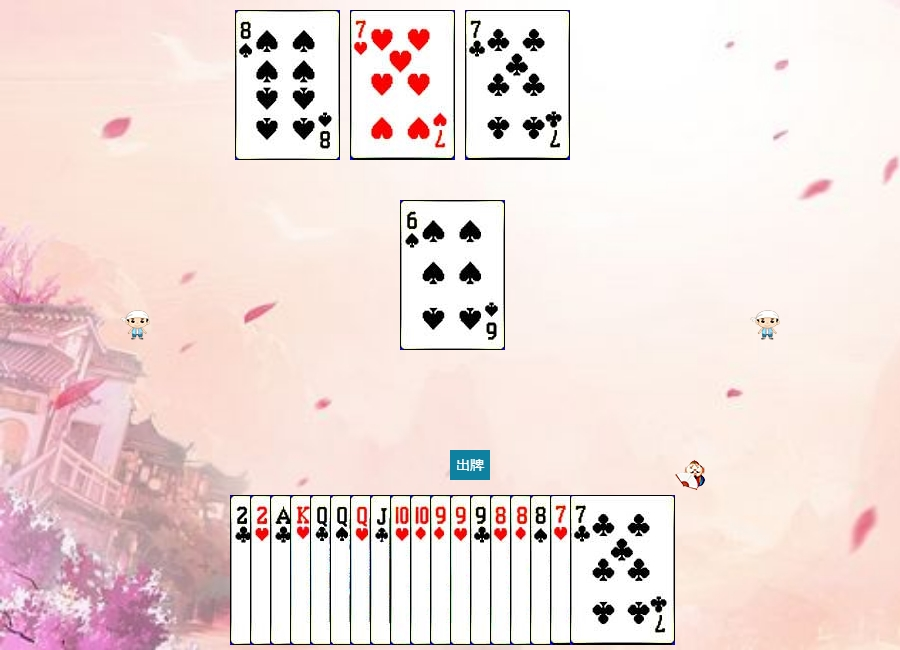10~1: (410, 495, 515, 645)
10~3: (390, 495, 495, 645)
11~2: (370, 495, 475, 645)
12~2: (310, 495, 415, 645)
12~3: (350, 495, 455, 645)
12~4: (330, 495, 435, 645)
13~3: (290, 495, 395, 645)
14~2: (270, 495, 375, 645)
15~2: (230, 495, 335, 645)
15~3: (250, 495, 355, 645)
6~4: (400, 200, 505, 350)
7~2: (465, 10, 570, 160), (570, 495, 675, 645)
7~3: (350, 10, 455, 160), (550, 495, 655, 645)
8~1: (510, 495, 615, 645)
8~3: (490, 495, 595, 645)
8~4: (235, 10, 340, 160), (530, 495, 635, 645)
9~1: (430, 495, 535, 645)
9~2: (470, 495, 575, 645)
9~3: (450, 495, 555, 645)
